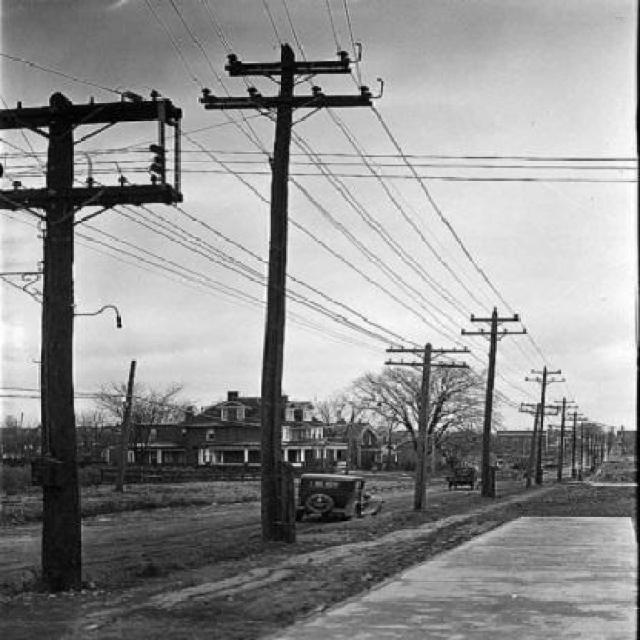Pole: (0, 92, 181, 590), (260, 44, 300, 542), (462, 307, 526, 497), (414, 342, 429, 510)
